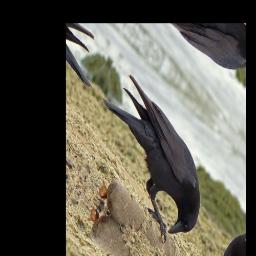Crow: (78, 60, 219, 256)
